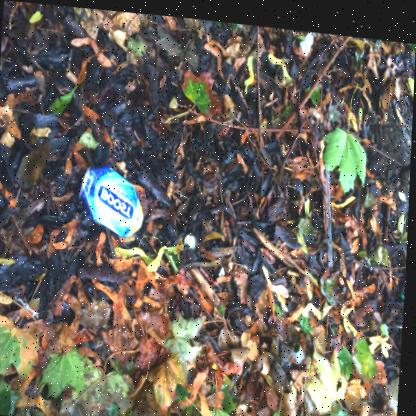Metal: (80, 163, 145, 234), (186, 229, 199, 246)
Plastic: (326, 157, 334, 260)
